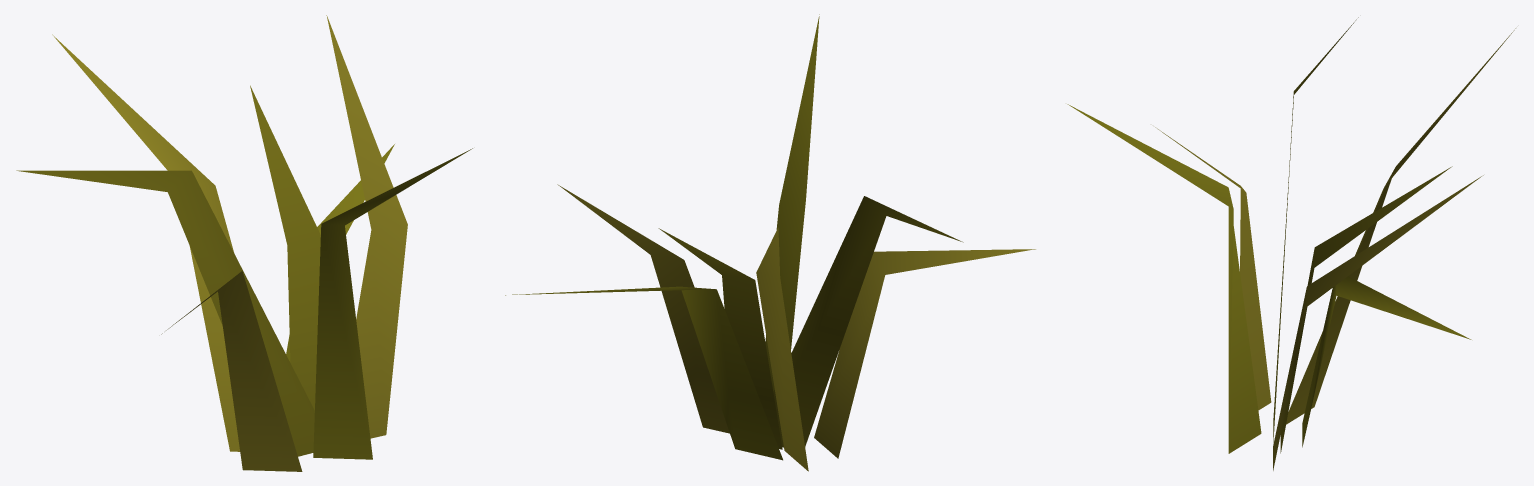
File: Model_Undead_Plants2.fbx
3 renders of one model, left to right at view 1: azimuth 30°, elevation 25°; view 2: azimuth 150°, elevation 25°; view 3: azimuth 270°, elevation 25°, orthographic. The views are drawn at different scales.
Visible parts, largest first — view 1: cao2; view 2: cao2; view 3: cao2.
Boxes of the visible parts, x1,y1,x2,y2 form: cao2: (16, 15, 472, 471); cao2: (505, 14, 1035, 471); cao2: (1067, 17, 1515, 470).
Bounding box in the file's own units: 55.67 × 45.01 × 51.37.
Materials: 1 (1 with a texture image).
